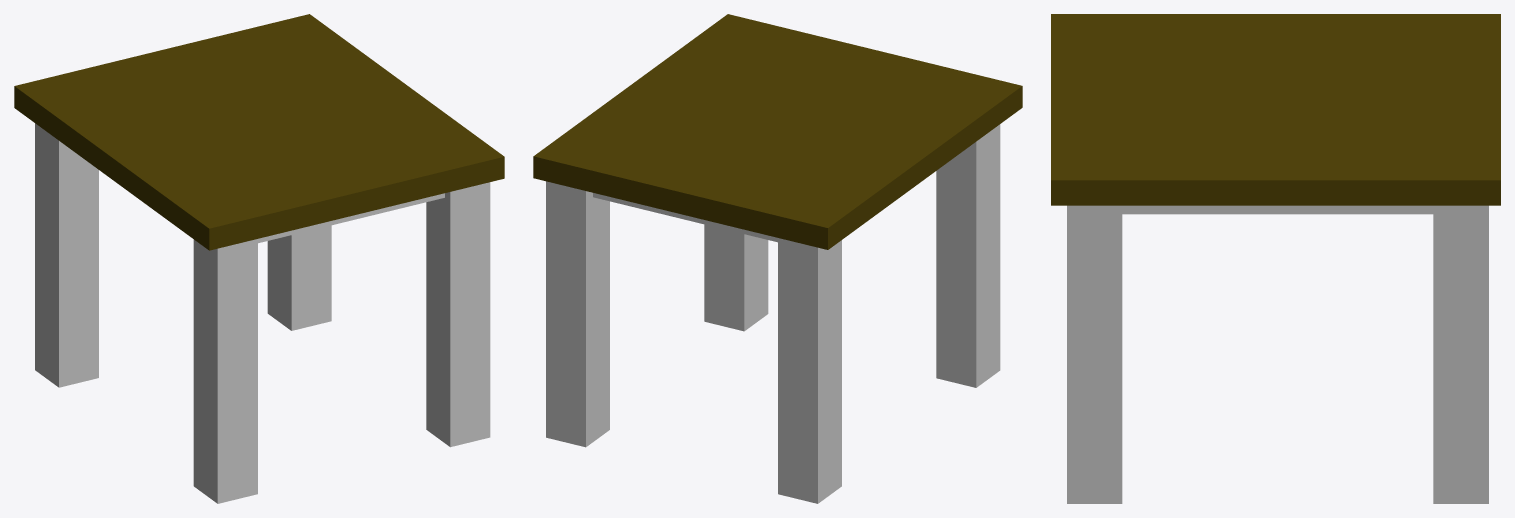
The model's file is SideTable.fbx.
3 views of the same model, side by side, from view 1: azimuth 30°, elevation 25°; view 2: azimuth 150°, elevation 25°; view 3: azimuth 270°, elevation 25° (orthographic). The views are drawn at different scales.
Visible parts, largest first — view 1: Top, Leg2, Leg3, Leg4, Leg1, Skirt; view 2: Top, Leg4, Leg1, Leg2, Leg3, Skirt; view 3: Top, Leg1, Leg3, Skirt.
Part boxes in pixels (x1,y1,x2,y2): Top: [14, 14, 504, 250]; Leg2: [193, 239, 257, 503]; Leg3: [426, 182, 490, 447]; Leg4: [35, 123, 98, 387]; Leg1: [267, 225, 331, 330]; Skirt: [258, 193, 444, 243]; Top: [533, 14, 1022, 249]; Leg4: [778, 238, 841, 503]; Leg1: [546, 181, 609, 447]; Leg2: [936, 124, 1000, 387]; Leg3: [704, 224, 768, 331]; Skirt: [593, 193, 777, 242]; Top: [1051, 14, 1500, 205]; Leg1: [1433, 205, 1488, 503]; Leg3: [1067, 205, 1122, 503]; Skirt: [1122, 205, 1433, 214].
Size of the model in its own units: 1.1 by 1.01 by 1.26.
